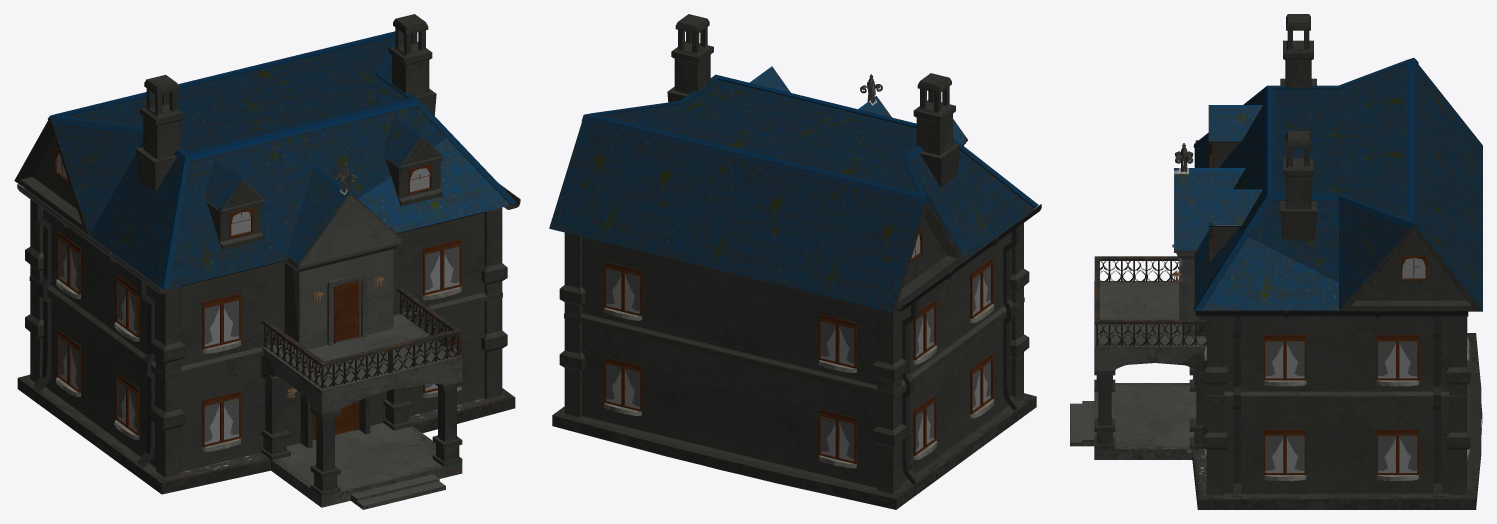
File: manor.glb
3 views of the same model, side by side, from view 1: azimuth 30°, elevation 25°; view 2: azimuth 150°, elevation 25°; view 3: azimuth 270°, elevation 25° (orthographic). The views are drawn at different scales.
Visible parts, largest first — view 1: mansion; view 2: mansion; view 3: mansion.
Part boxes in pixels (box(x1,y1,x2,y2)): mansion: box(14, 14, 520, 509); mansion: box(549, 14, 1041, 509); mansion: box(1070, 14, 1482, 509).
Bounding box in the file's own units: 15.54 × 14.73 × 15.76.
3 materials, 3 textured.
